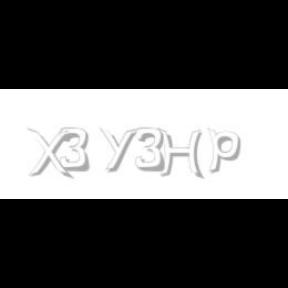3: (60, 128, 91, 172), (136, 128, 166, 172)
H: (158, 128, 204, 180)
X: (27, 128, 71, 180)
p: (208, 128, 244, 174)
y: (100, 128, 140, 172)
